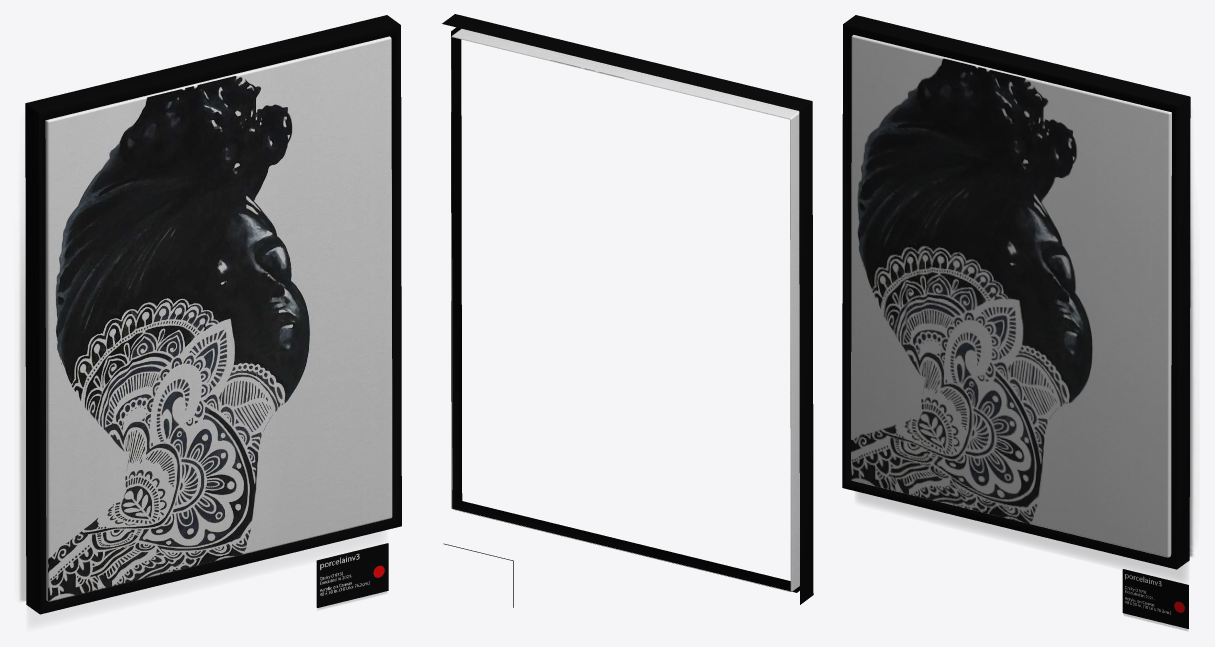
File: porcelainv3.glb
The picture shows the model from 3 angles, left to right: view 1: azimuth 30°, elevation 25°; view 2: azimuth 150°, elevation 25°; view 3: azimuth 330°, elevation 25°; orthographic projection. The views are drawn at different scales.
Visible parts, largest first — view 1: Canvas, frame, title, Plane001; view 2: frame, Canvas; view 3: Canvas, frame, title, Plane001.
Boxes of the visible parts, box(x1,y1,x2,y2) form: Canvas: box(45, 36, 392, 601); frame: box(25, 15, 401, 628); title: box(316, 543, 388, 610); Plane001: box(18, 153, 26, 601); frame: box(442, 14, 813, 604); Canvas: box(451, 28, 799, 591); Canvas: box(851, 34, 1171, 557); frame: box(842, 15, 1190, 582); title: box(1122, 569, 1188, 630); Plane001: box(1189, 166, 1194, 557).
Bounding box in the file's own units: 8.47 × 12.24 × 0.5889.
3 materials, 2 textured.
